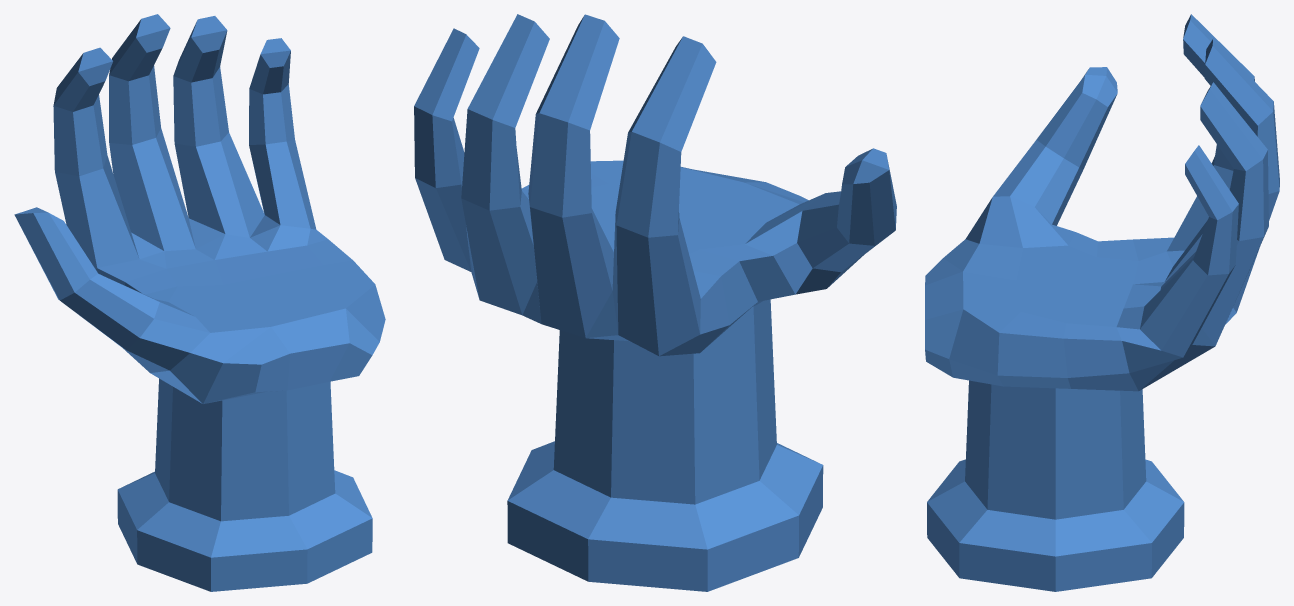
File: Chair_1.fbx
The picture shows the model from 3 angles, left to right: view 1: azimuth 30°, elevation 25°; view 2: azimuth 150°, elevation 25°; view 3: azimuth 270°, elevation 25°; orthographic projection. The views are drawn at different scales.
Parts seen in each view (by area): view 1: Chair_1; view 2: Chair_1; view 3: Chair_1.
Boxes of the visible parts, x1=… form: Chair_1: x1=14, y1=14, x2=385, y2=591; Chair_1: x1=414, y1=14, x2=896, y2=591; Chair_1: x1=925, y1=14, x2=1279, y2=591.
Bounding box in the file's own units: 98.57 × 89.11 × 135.
